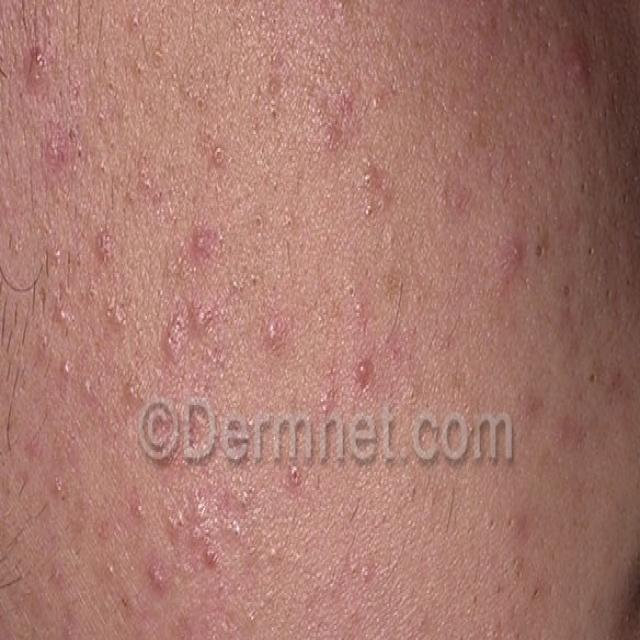Acne: (2, 20, 462, 408), (0, 459, 450, 640), (542, 0, 639, 195), (493, 481, 575, 640), (497, 199, 557, 353)
